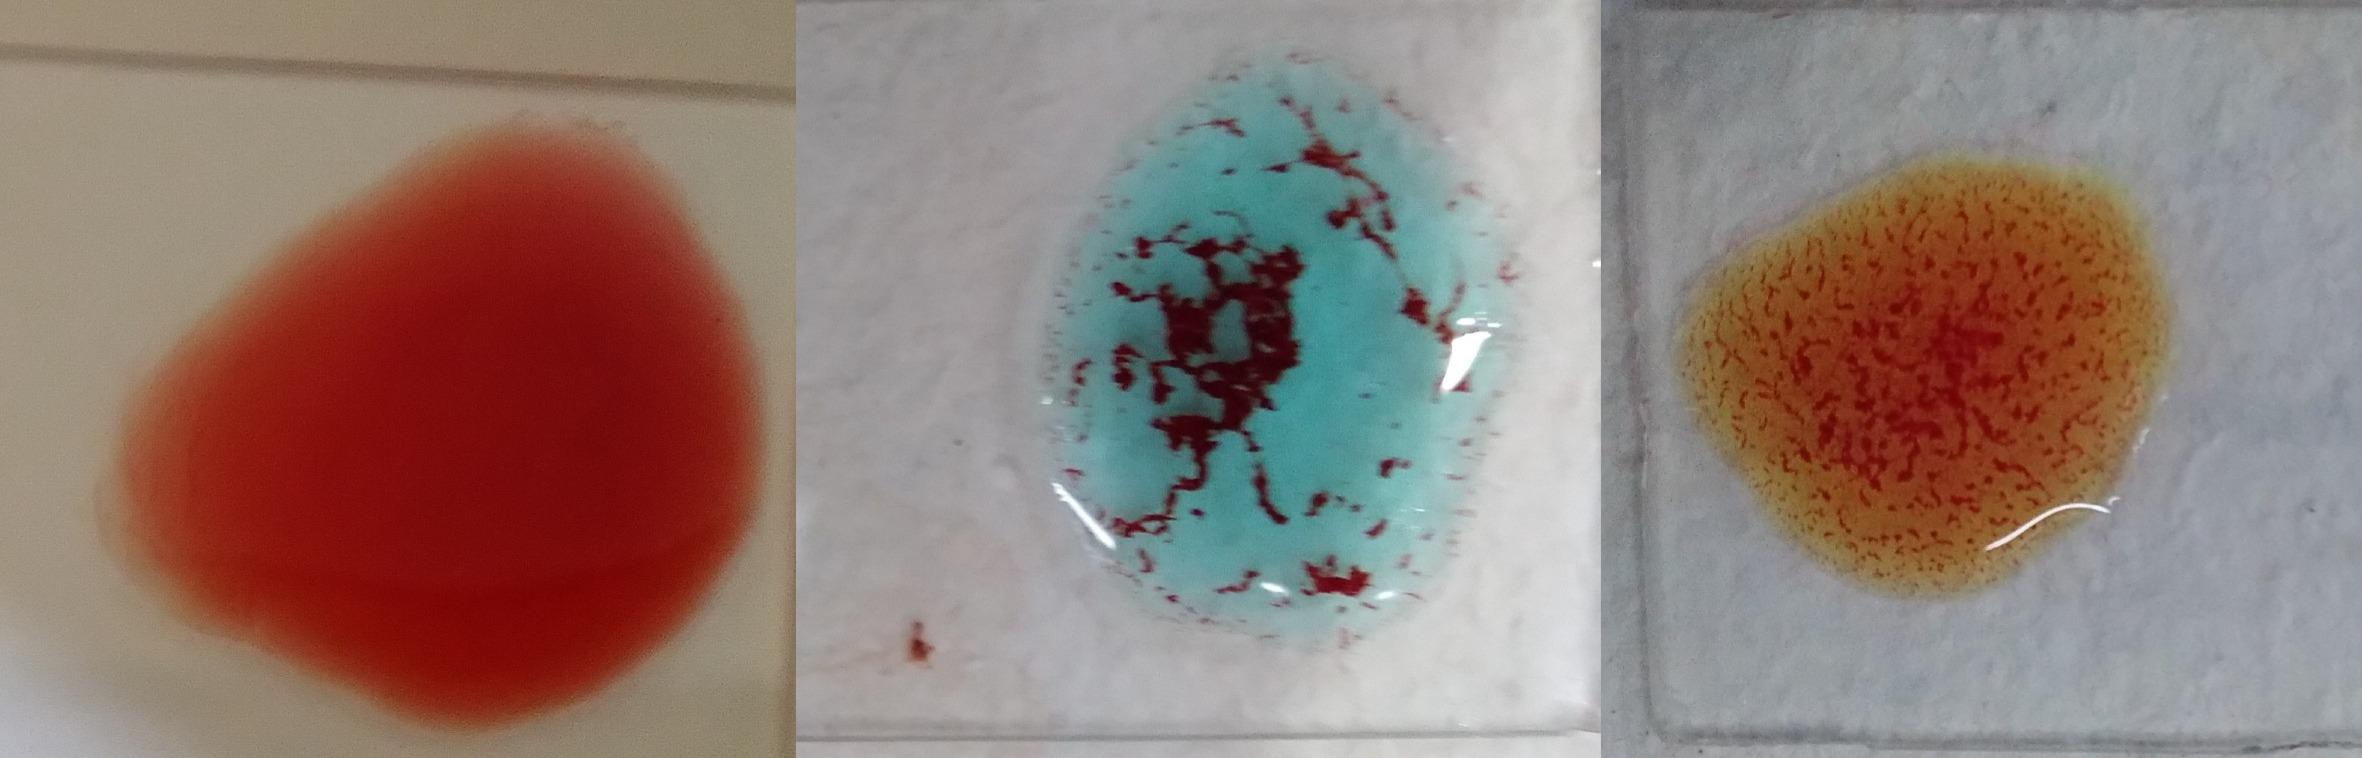A: (1032, 57, 1533, 660)
B: (1666, 160, 2166, 595)
